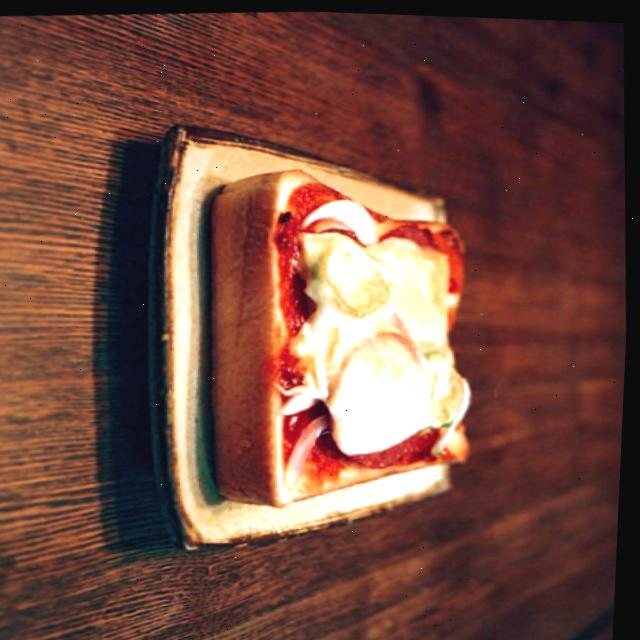面包点心: (120, 133, 501, 560)
